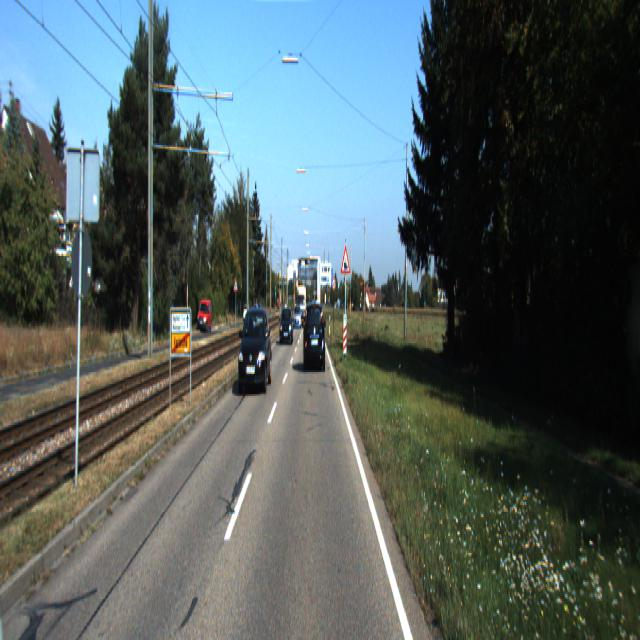Car: (239, 305, 273, 396), (304, 301, 326, 373), (279, 305, 294, 345), (198, 298, 212, 334), (294, 306, 301, 330)
